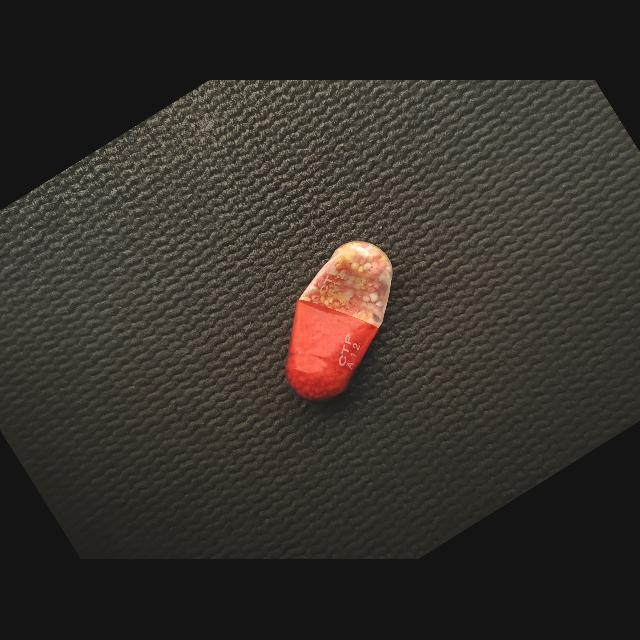Defective Capsule: (285, 241, 393, 401)
